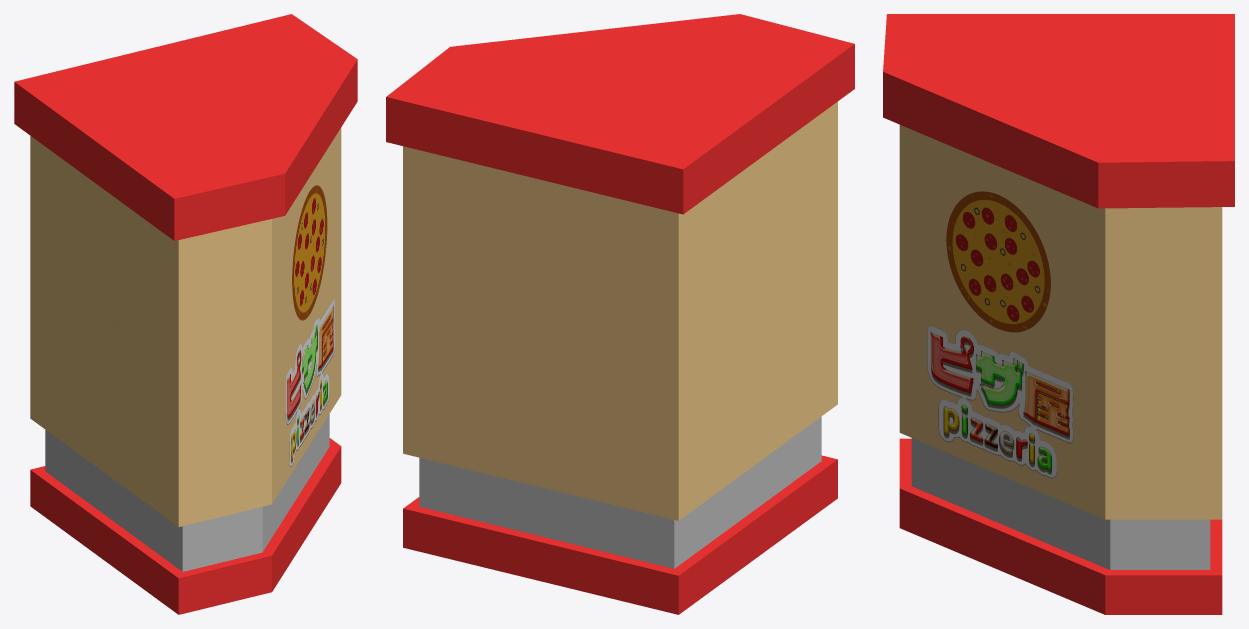
The model's file is Town_Bld_Pizzeria_B.FBX.
The picture shows the model from 3 angles, left to right: view 1: azimuth 30°, elevation 25°; view 2: azimuth 150°, elevation 25°; view 3: azimuth 270°, elevation 25°; orthographic projection. The views are drawn at different scales.
Visible parts, largest first — view 1: Town_Bld_Pizzeria_B; view 2: Town_Bld_Pizzeria_B; view 3: Town_Bld_Pizzeria_B.
Part boxes in pixels (bbox=[...]): Town_Bld_Pizzeria_B: bbox=[14, 14, 357, 614]; Town_Bld_Pizzeria_B: bbox=[386, 14, 854, 614]; Town_Bld_Pizzeria_B: bbox=[883, 14, 1234, 614].
Size of the model in its own units: 818 by 1177 by 818.
